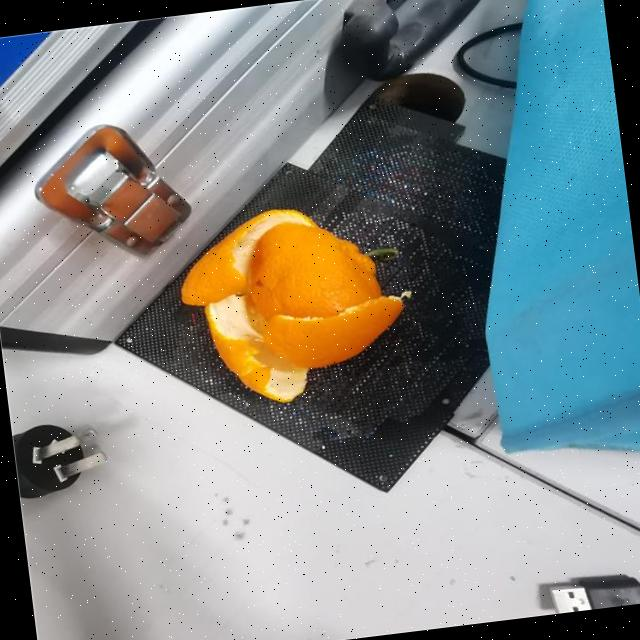orange-peel: (170, 192, 416, 413)
